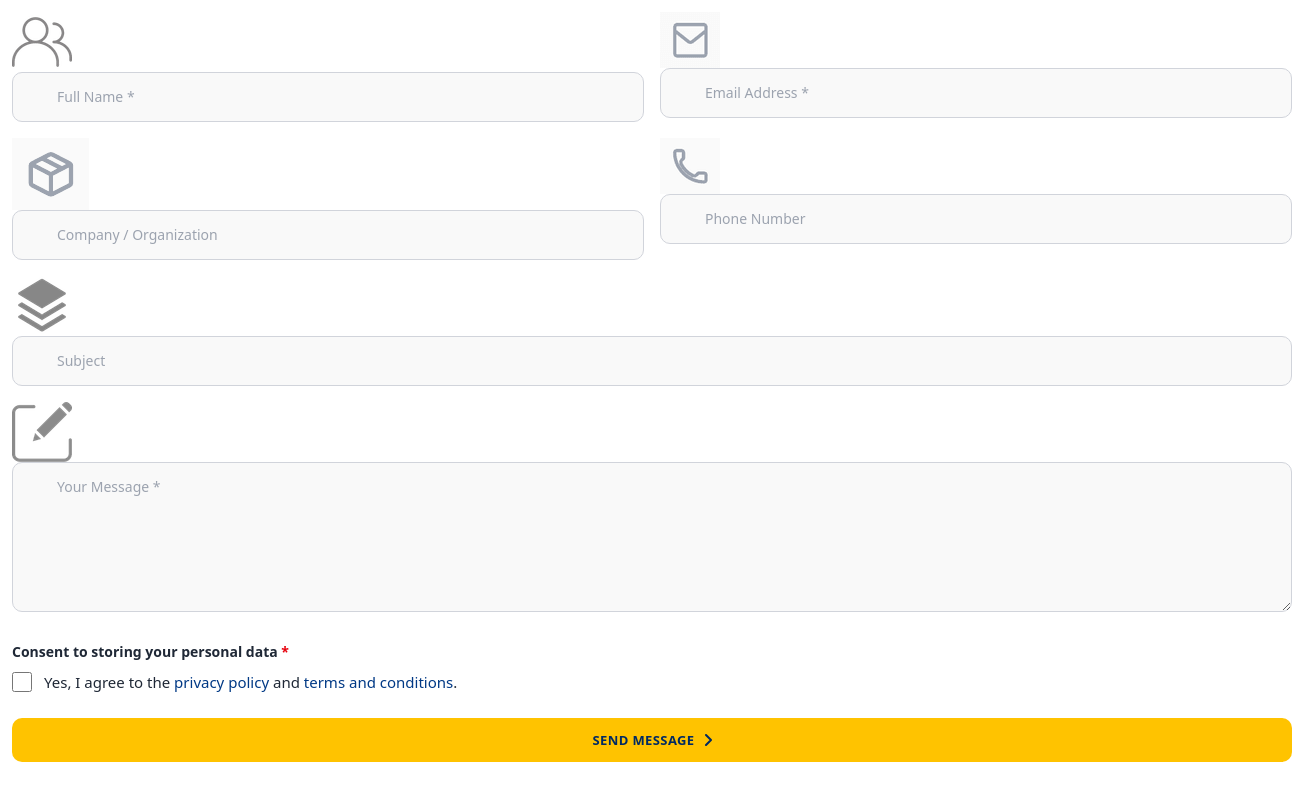
Test: ContactForm — consent › blocks submission until the box is ticked, and says why
Type "Somchai Jaidee" into the field labelled "Full Name". click: point(328, 97)
box: x1=12 y1=72 x2=644 y2=122
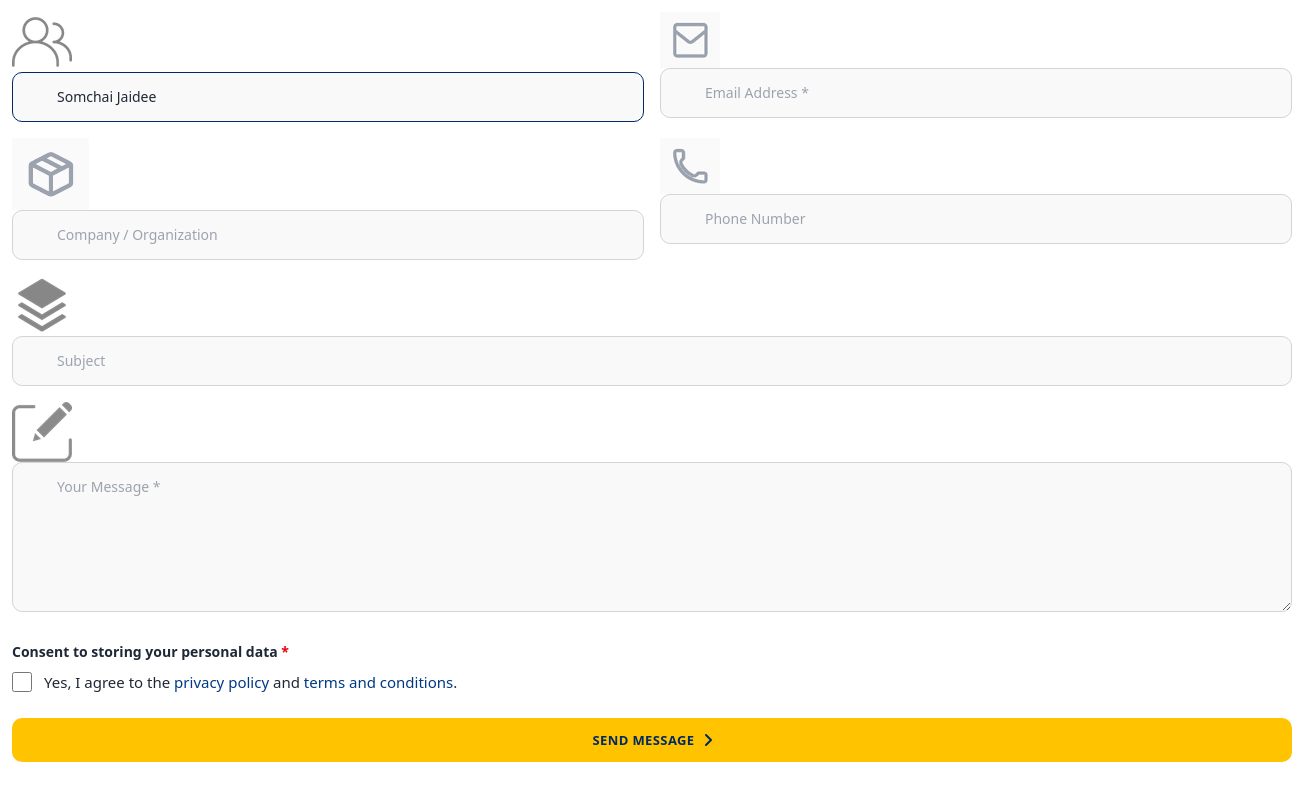
Type "somchai@example.co.th" into the field labelled "Email Address". click: point(976, 93)
box: x1=660 y1=68 x2=1292 y2=118
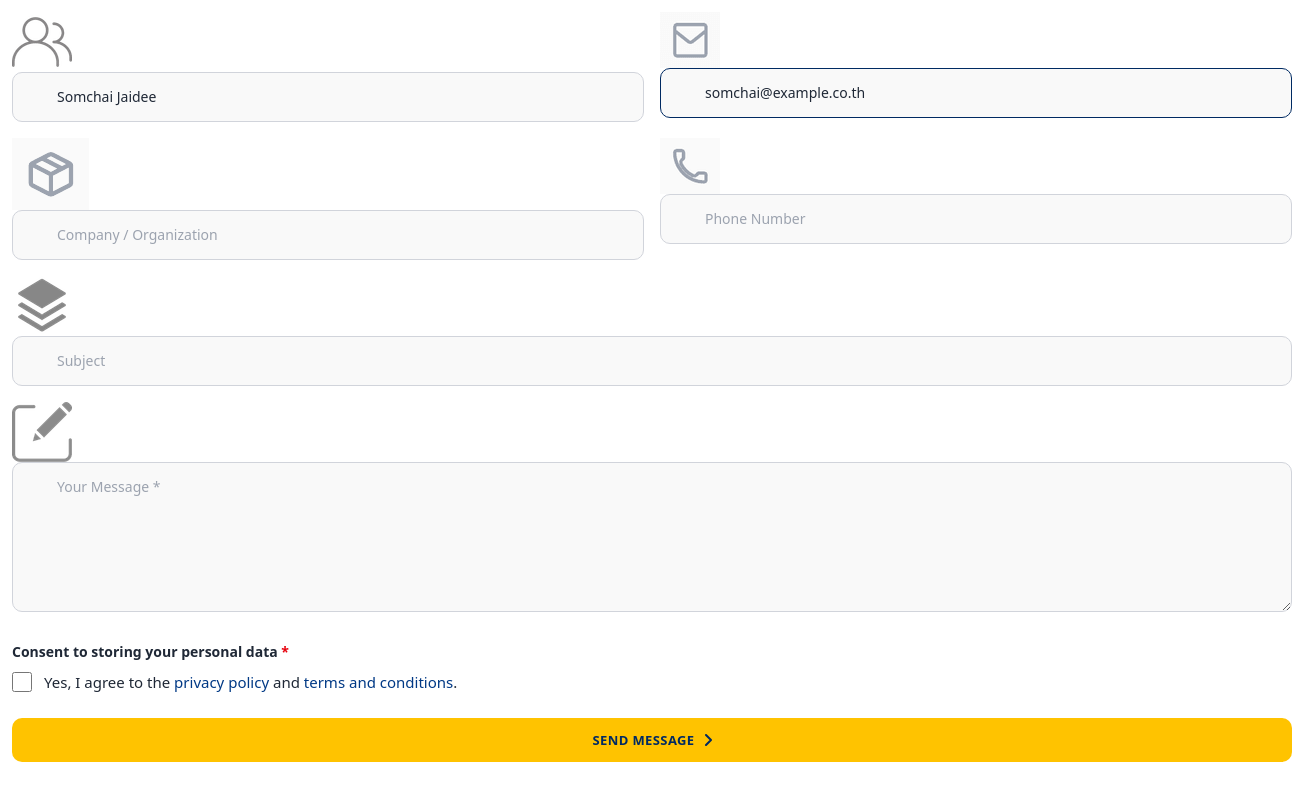
Type "We would like a quote." into the text box labelled "Your Message". click: point(652, 537)
box: x1=12 y1=462 x2=1292 y2=612
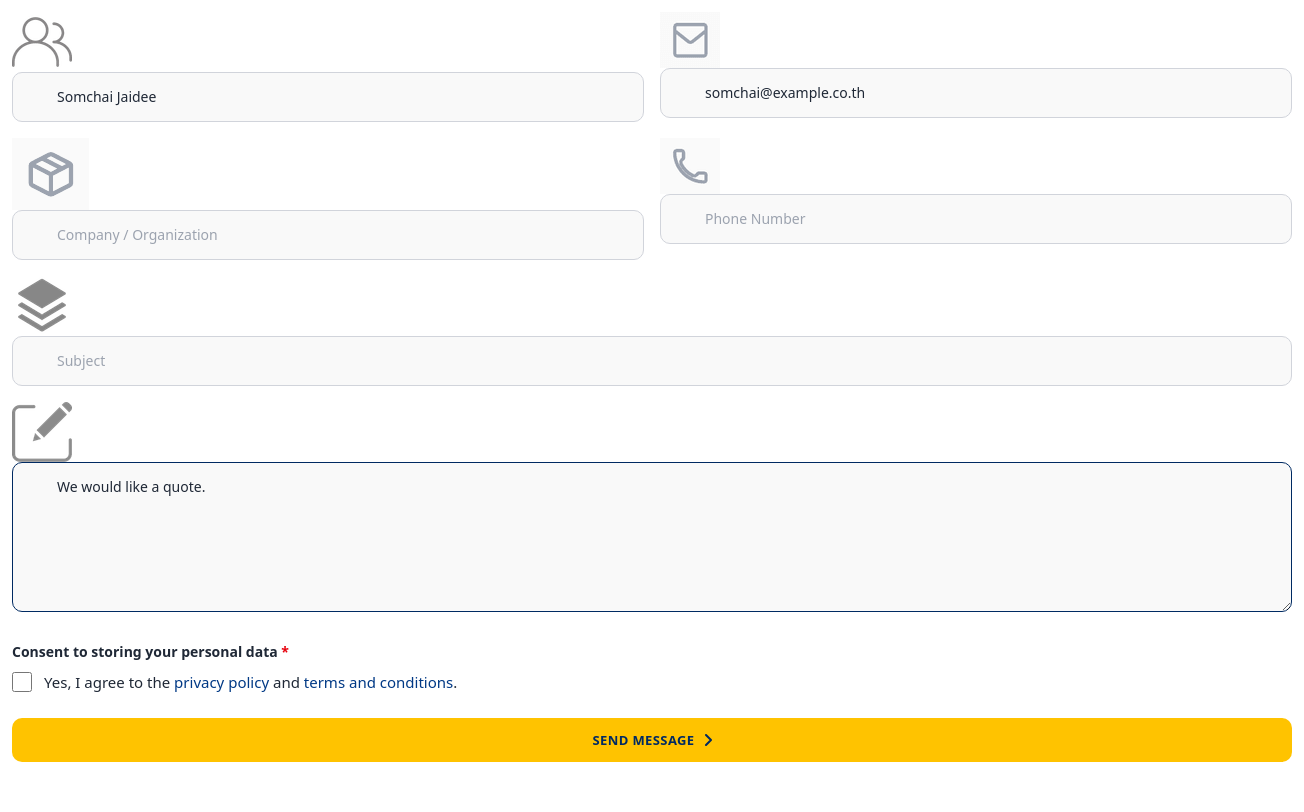
Click the button "Send Message". click: point(652, 740)
box: x1=12 y1=718 x2=1292 y2=762
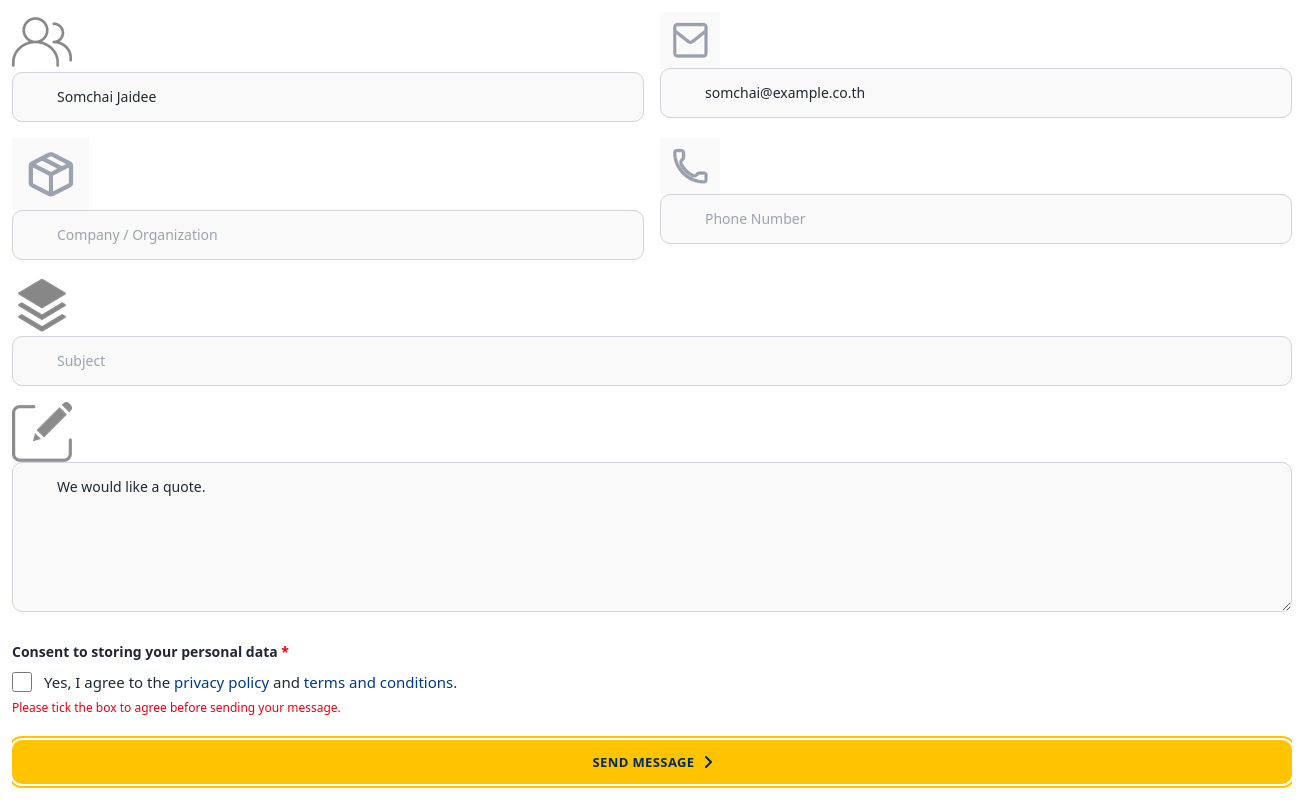
Now the text "Please tick the box to agree before sending your message." is shown, box x1=12 y1=699 x2=341 y2=716
